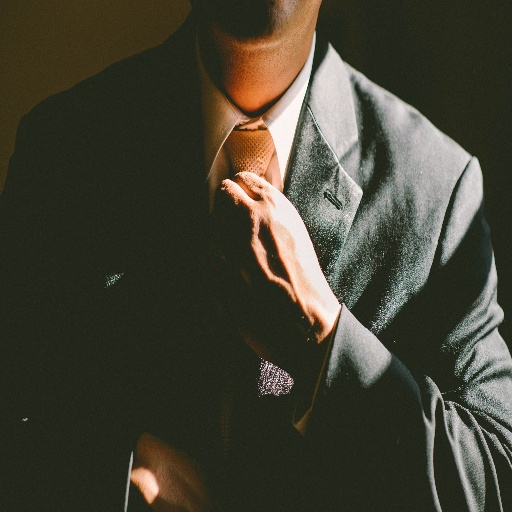hand: (211, 167, 343, 380), (124, 430, 213, 511)
